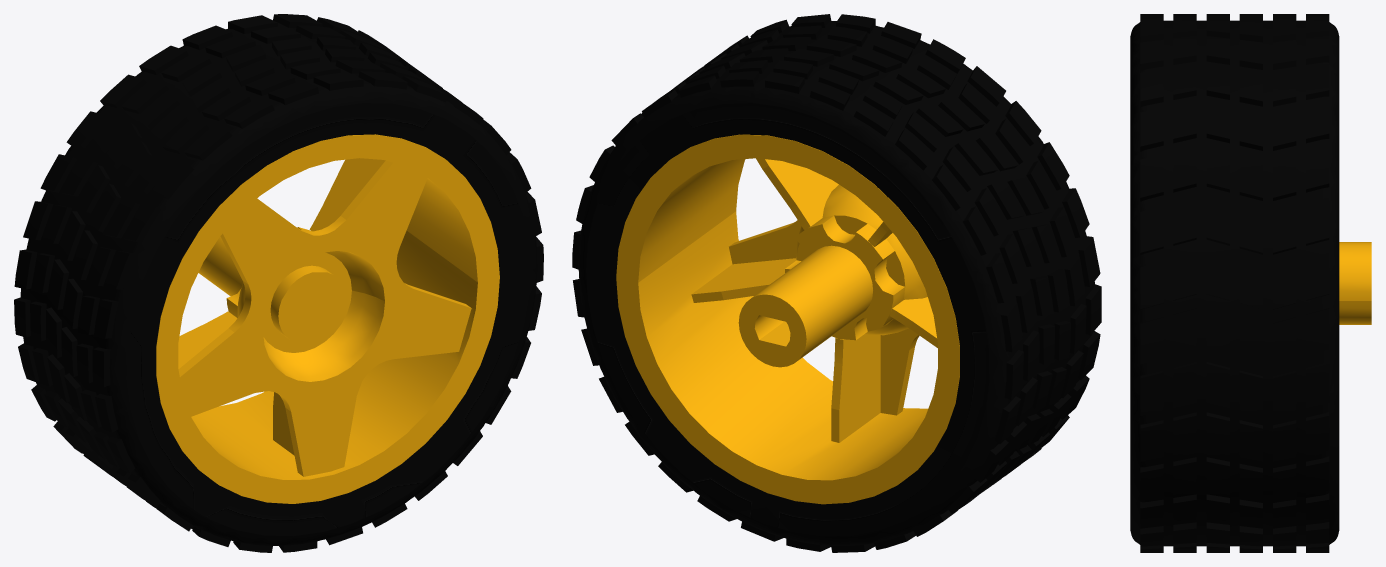
The model's file is fc-wheel-tt-65.glb.
3 views of the same model, side by side, from view 1: azimuth 30°, elevation 25°; view 2: azimuth 150°, elevation 25°; view 3: azimuth 270°, elevation 25° (orthographic). The views are drawn at different scales.
Visible parts, largest first — view 1: 0_0_0_0, 1_0.5_0_0; view 2: 0_0_0_0, 1_0.5_0_0; view 3: 0_0_0_0, 1_0.5_0_0.
Part boxes in pixels (<box>): 0_0_0_0: <box>14,14,543,552</box>; 1_0.5_0_0: <box>156,134,499,503</box>; 0_0_0_0: <box>572,14,1101,552</box>; 1_0.5_0_0: <box>616,134,959,504</box>; 0_0_0_0: <box>1130,14,1339,552</box>; 1_0.5_0_0: <box>1339,242,1371,324</box>.
Bounding box in the file's own units: 6.5 × 6.5 × 2.91.
